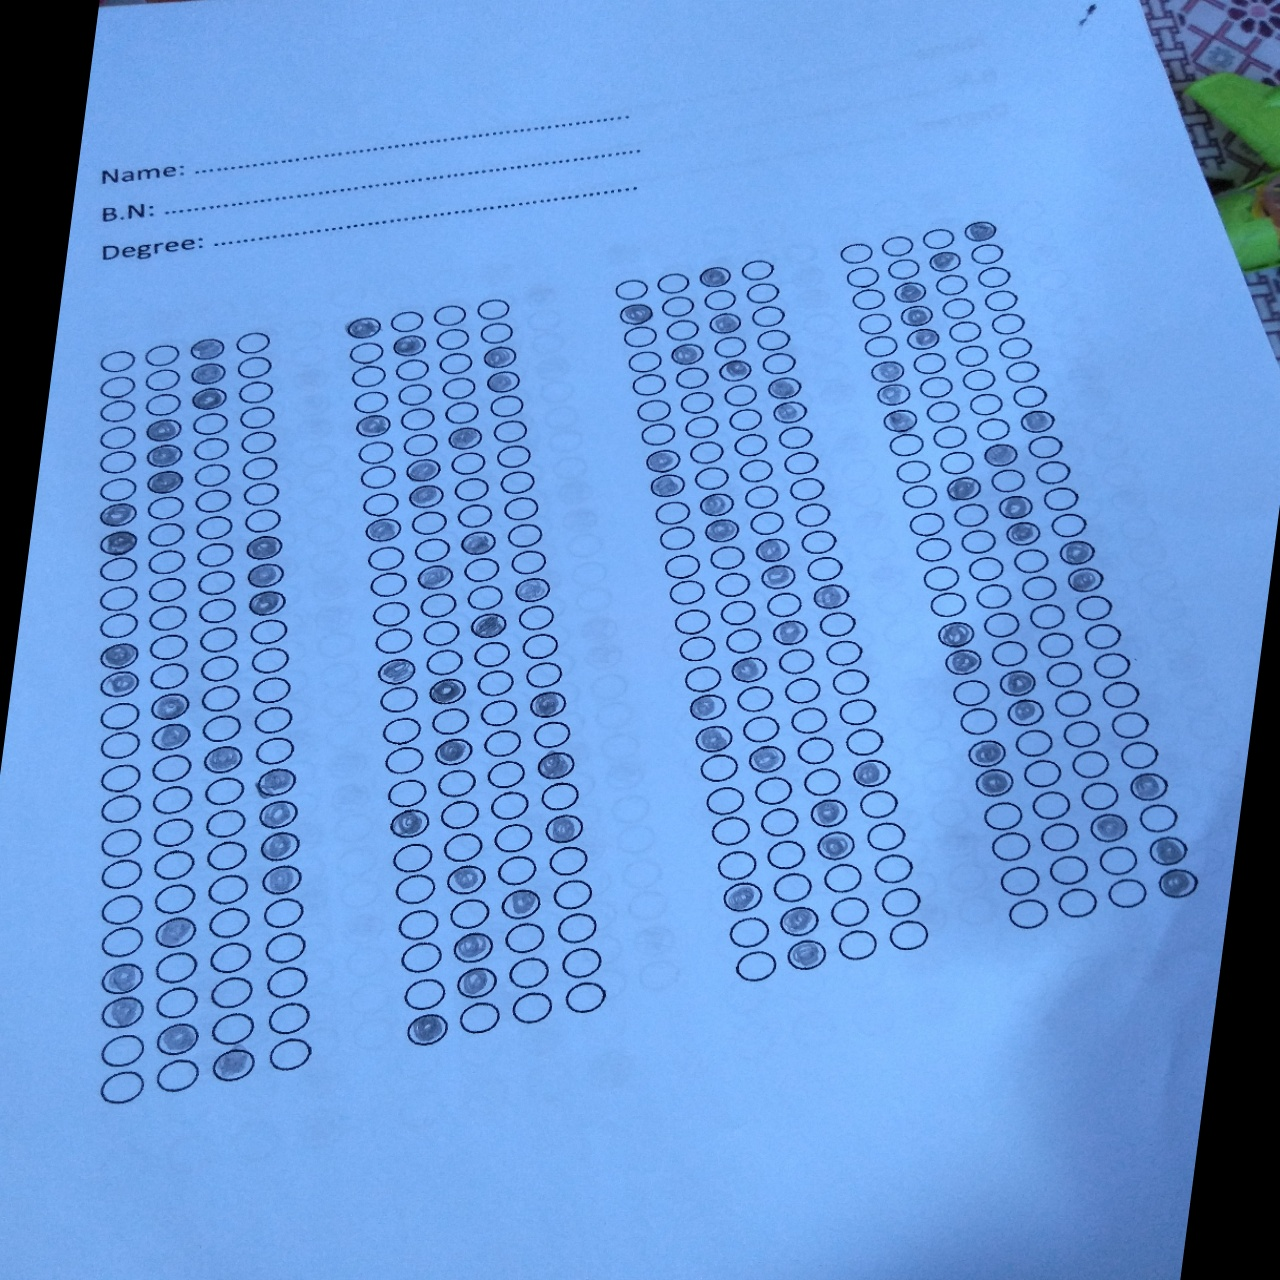not-c: (264, 1037, 314, 1073), (204, 906, 254, 941), (151, 949, 200, 985), (455, 1000, 504, 1035), (556, 945, 606, 979), (207, 1012, 256, 1047), (263, 930, 311, 965), (561, 980, 610, 1015), (205, 941, 254, 975), (258, 896, 307, 930), (504, 955, 553, 989), (731, 949, 781, 983), (884, 918, 933, 952), (876, 886, 925, 920), (152, 1058, 200, 1092), (207, 975, 256, 1009), (152, 986, 200, 1020), (508, 990, 556, 1024), (833, 930, 881, 964), (726, 915, 774, 949), (264, 1002, 313, 1035), (98, 1034, 147, 1067), (98, 1070, 147, 1103), (263, 966, 311, 999), (1053, 887, 1099, 920), (855, 789, 903, 821), (840, 726, 888, 757), (151, 883, 197, 915), (205, 872, 251, 905), (151, 849, 197, 881), (203, 808, 248, 840), (445, 897, 491, 930), (1027, 788, 1073, 821), (98, 893, 145, 925), (204, 839, 251, 871), (150, 817, 197, 849), (200, 776, 247, 808), (148, 785, 195, 817), (149, 751, 196, 783), (1046, 853, 1092, 885), (1135, 802, 1182, 833), (248, 704, 297, 735), (869, 853, 917, 884), (714, 850, 762, 880), (707, 816, 755, 846), (702, 785, 750, 816), (749, 776, 797, 806), (791, 735, 839, 765), (402, 978, 447, 1010), (251, 734, 297, 765), (537, 781, 583, 812), (393, 873, 438, 905), (493, 855, 539, 886), (757, 806, 803, 838), (799, 765, 845, 797), (828, 896, 873, 927), (979, 799, 1024, 831), (1037, 822, 1083, 853), (98, 926, 145, 956), (819, 863, 866, 893), (696, 753, 743, 783), (1005, 899, 1051, 930), (1094, 845, 1141, 876), (490, 822, 535, 853), (389, 843, 434, 874), (545, 846, 590, 878), (988, 831, 1033, 863), (98, 828, 144, 858), (486, 790, 532, 821), (440, 832, 485, 863), (502, 922, 547, 953), (399, 942, 444, 973), (771, 872, 817, 903), (863, 821, 908, 851), (763, 840, 810, 870), (396, 908, 440, 940), (98, 794, 143, 824), (198, 713, 243, 743), (436, 799, 481, 830), (554, 913, 599, 944), (998, 865, 1042, 896), (1104, 878, 1149, 908), (98, 762, 144, 791), (98, 859, 144, 888), (550, 880, 595, 910), (427, 707, 471, 736), (829, 667, 873, 696), (774, 647, 818, 676), (1068, 749, 1112, 778), (248, 676, 294, 704), (379, 717, 424, 745), (1116, 741, 1162, 769), (247, 646, 291, 675), (423, 648, 467, 678), (377, 685, 421, 714), (481, 728, 524, 757), (787, 706, 830, 735), (681, 665, 724, 694), (722, 627, 765, 656), (670, 607, 714, 636), (1012, 728, 1055, 757), (147, 661, 191, 689), (97, 731, 142, 760), (520, 661, 565, 689), (476, 699, 520, 727), (529, 721, 573, 749), (381, 747, 425, 775), (835, 697, 879, 726), (1081, 622, 1125, 651), (1051, 689, 1094, 719), (147, 604, 190, 632), (197, 625, 240, 653), (198, 655, 241, 683), (98, 702, 142, 730), (372, 627, 415, 655), (418, 619, 462, 647), (519, 632, 563, 660), (471, 640, 515, 668), (472, 669, 516, 697), (384, 779, 428, 808), (435, 769, 478, 797), (484, 761, 527, 789), (822, 639, 865, 667), (816, 610, 859, 638), (791, 501, 835, 529), (1026, 602, 1069, 631), (1020, 760, 1064, 787), (1077, 782, 1122, 809), (199, 685, 241, 713), (515, 604, 557, 632), (740, 715, 782, 743), (734, 685, 776, 713), (676, 635, 719, 663), (956, 707, 999, 735), (1090, 651, 1132, 679), (96, 585, 139, 612), (97, 612, 141, 639), (781, 678, 824, 704), (660, 553, 703, 580), (706, 544, 749, 571), (1042, 661, 1085, 688), (1099, 681, 1141, 709), (1060, 720, 1101, 748), (1110, 710, 1151, 738), (145, 522, 188, 549), (803, 556, 845, 583), (666, 579, 708, 606), (798, 529, 840, 556), (656, 524, 699, 551), (972, 583, 1014, 610), (927, 591, 969, 618), (981, 612, 1023, 639), (988, 640, 1030, 667), (949, 680, 992, 707), (195, 597, 238, 622), (246, 619, 290, 645), (147, 634, 190, 660), (502, 523, 545, 549), (506, 549, 550, 574), (762, 592, 805, 618), (652, 499, 695, 525), (1034, 632, 1077, 658), (193, 542, 234, 568), (740, 483, 781, 510), (687, 438, 728, 465), (920, 564, 961, 591), (145, 495, 188, 520), (192, 488, 234, 513), (195, 515, 237, 540), (97, 556, 139, 581), (145, 550, 188, 576), (195, 570, 237, 595), (454, 503, 496, 529), (459, 557, 502, 583), (463, 585, 505, 611), (716, 599, 758, 625), (712, 572, 754, 598), (747, 510, 789, 536), (729, 433, 771, 458), (956, 529, 999, 554), (965, 556, 1007, 581), (1073, 594, 1115, 620), (192, 461, 232, 488), (736, 458, 776, 485), (366, 547, 409, 572), (406, 511, 449, 536), (367, 572, 410, 597), (411, 538, 455, 563), (234, 380, 275, 406), (147, 577, 188, 602), (787, 476, 828, 502), (775, 425, 816, 451), (1032, 459, 1073, 485), (96, 477, 138, 502), (417, 593, 459, 618), (369, 601, 411, 626), (912, 537, 954, 561), (1008, 549, 1050, 573), (241, 482, 281, 508), (97, 399, 137, 424), (692, 465, 731, 491), (241, 509, 282, 533), (190, 411, 231, 436), (501, 496, 542, 520), (781, 451, 822, 476), (949, 503, 990, 527), (986, 469, 1027, 493), (1048, 513, 1089, 538), (1017, 576, 1058, 600), (639, 421, 678, 447), (239, 456, 279, 481), (143, 393, 183, 417), (97, 425, 137, 450), (430, 302, 470, 327), (441, 400, 481, 424), (629, 372, 669, 396), (1041, 486, 1081, 511), (356, 440, 394, 465), (663, 316, 701, 342), (1003, 359, 1041, 384), (233, 355, 274, 379), (937, 451, 978, 475), (899, 485, 940, 509), (906, 512, 947, 536), (401, 433, 440, 457), (448, 451, 486, 476), (727, 407, 765, 431), (673, 366, 712, 390), (738, 258, 777, 282), (856, 311, 894, 335), (952, 343, 990, 368), (988, 311, 1027, 335), (939, 297, 978, 321), (966, 392, 1005, 416), (922, 399, 961, 423), (1024, 435, 1063, 459), (232, 331, 272, 354), (237, 406, 277, 429), (239, 430, 279, 454), (142, 343, 182, 367), (97, 375, 137, 399), (142, 368, 182, 392), (97, 450, 137, 474), (191, 437, 231, 461), (387, 309, 427, 333), (486, 394, 526, 417), (493, 444, 533, 468), (910, 350, 949, 374), (893, 459, 933, 483), (681, 415, 719, 440), (634, 399, 672, 423), (760, 350, 797, 375), (749, 305, 787, 329), (996, 336, 1034, 361), (975, 265, 1013, 290), (1012, 384, 1049, 409), (434, 327, 472, 350), (347, 341, 386, 365), (348, 365, 387, 388), (437, 352, 476, 375), (397, 407, 436, 430), (490, 418, 529, 442), (359, 465, 397, 489), (497, 471, 536, 495), (452, 477, 491, 501), (678, 390, 716, 414), (721, 383, 760, 407), (755, 328, 794, 352), (982, 290, 1021, 313), (917, 375, 955, 399), (959, 368, 998, 392), (930, 425, 968, 449), (621, 325, 658, 349), (879, 233, 915, 258), (97, 350, 137, 373), (361, 493, 399, 517), (626, 350, 663, 374), (710, 334, 748, 358), (702, 288, 740, 312), (837, 241, 874, 265), (920, 226, 958, 250), (968, 241, 1006, 265), (862, 334, 899, 358), (947, 320, 985, 343), (933, 273, 971, 297), (886, 433, 924, 456), (974, 417, 1012, 441), (393, 358, 431, 380), (350, 390, 389, 413), (744, 281, 781, 305), (477, 322, 515, 345), (440, 376, 477, 399), (396, 383, 434, 406), (654, 272, 692, 294), (612, 279, 649, 301), (472, 299, 511, 320), (658, 295, 696, 316), (886, 258, 922, 280), (846, 266, 881, 288), (850, 288, 886, 309)
taken-c: (495, 887, 544, 922), (784, 937, 833, 972), (448, 930, 498, 964), (404, 1012, 452, 1047), (151, 915, 200, 949), (100, 996, 149, 1030), (443, 862, 492, 896), (777, 906, 826, 940), (812, 829, 862, 863), (209, 1049, 259, 1082), (154, 1021, 202, 1055), (542, 811, 590, 845), (745, 744, 794, 778), (98, 962, 148, 995), (719, 881, 768, 914), (804, 798, 853, 831), (847, 757, 897, 790), (1155, 867, 1201, 901), (454, 966, 502, 999), (384, 808, 433, 840), (719, 880, 767, 913), (971, 767, 1017, 799), (1144, 835, 1191, 867), (1125, 770, 1171, 803), (692, 724, 738, 756), (685, 693, 731, 724), (994, 668, 1041, 700), (767, 617, 813, 648), (256, 765, 301, 797), (1002, 699, 1048, 730), (940, 647, 986, 679), (1087, 811, 1132, 843), (147, 692, 193, 722), (148, 722, 195, 753), (411, 564, 458, 594), (965, 738, 1012, 769), (532, 750, 580, 779), (358, 516, 406, 545), (257, 831, 302, 862), (260, 865, 306, 896), (727, 655, 772, 686), (424, 678, 471, 707), (508, 576, 554, 605), (452, 529, 499, 558), (808, 583, 852, 613), (200, 745, 246, 775), (256, 799, 301, 829), (525, 690, 571, 720), (469, 612, 515, 641), (934, 620, 980, 649), (372, 658, 418, 686), (429, 738, 475, 767), (1000, 520, 1046, 549), (1063, 566, 1108, 594), (1056, 540, 1101, 568), (978, 442, 1022, 470), (246, 561, 290, 590), (96, 669, 139, 697), (401, 457, 444, 485), (98, 642, 143, 669), (994, 495, 1039, 522), (942, 476, 987, 503), (865, 359, 907, 387), (241, 535, 285, 561), (245, 590, 288, 617), (443, 425, 486, 452), (342, 314, 383, 342), (97, 530, 139, 557), (757, 563, 799, 590), (143, 418, 186, 444), (98, 501, 139, 527), (404, 483, 445, 510), (352, 413, 393, 440), (1017, 409, 1058, 436), (881, 407, 922, 434), (874, 382, 915, 409), (896, 302, 937, 329), (188, 386, 230, 411), (144, 442, 186, 468), (478, 346, 520, 372), (903, 327, 942, 354), (925, 248, 965, 275), (704, 309, 744, 336), (483, 369, 524, 395), (389, 333, 430, 359), (959, 219, 1000, 245), (753, 537, 794, 563), (717, 358, 756, 384), (770, 399, 809, 425), (143, 470, 185, 495), (890, 280, 930, 306), (696, 264, 736, 290), (617, 302, 656, 328), (667, 342, 707, 368), (644, 448, 683, 474), (647, 472, 687, 498), (697, 491, 737, 517), (703, 517, 742, 543), (188, 338, 229, 361), (764, 375, 803, 400), (188, 363, 230, 386)
